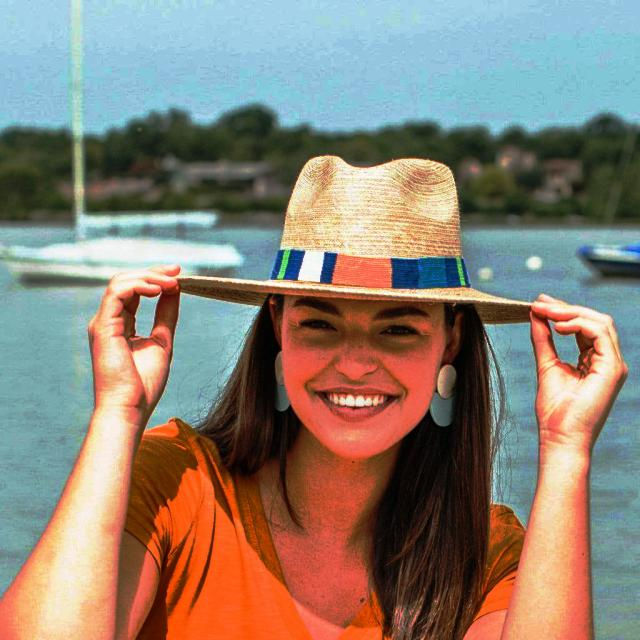TOPI: (149, 149, 555, 332)
